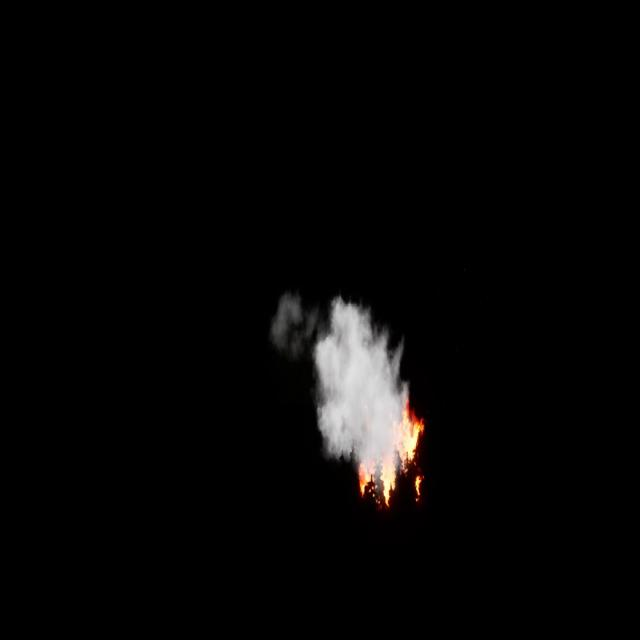fire: (357, 404, 426, 500)
smoke: (273, 289, 406, 469)
